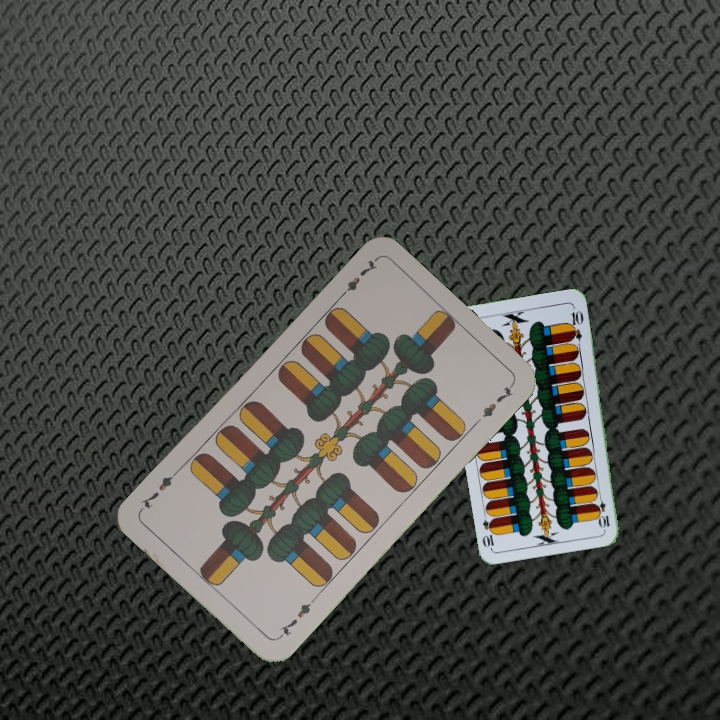E10: (593, 490, 612, 530)
E7: (334, 255, 380, 303), (274, 593, 318, 642)
